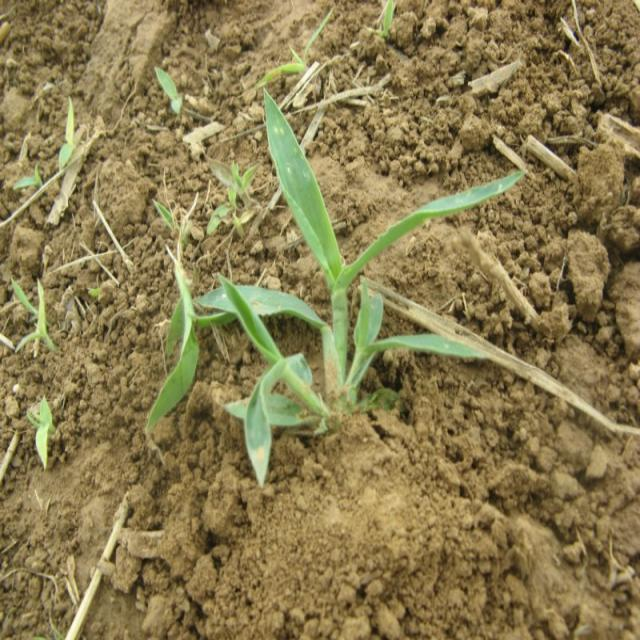bg: (190, 94, 523, 488)
